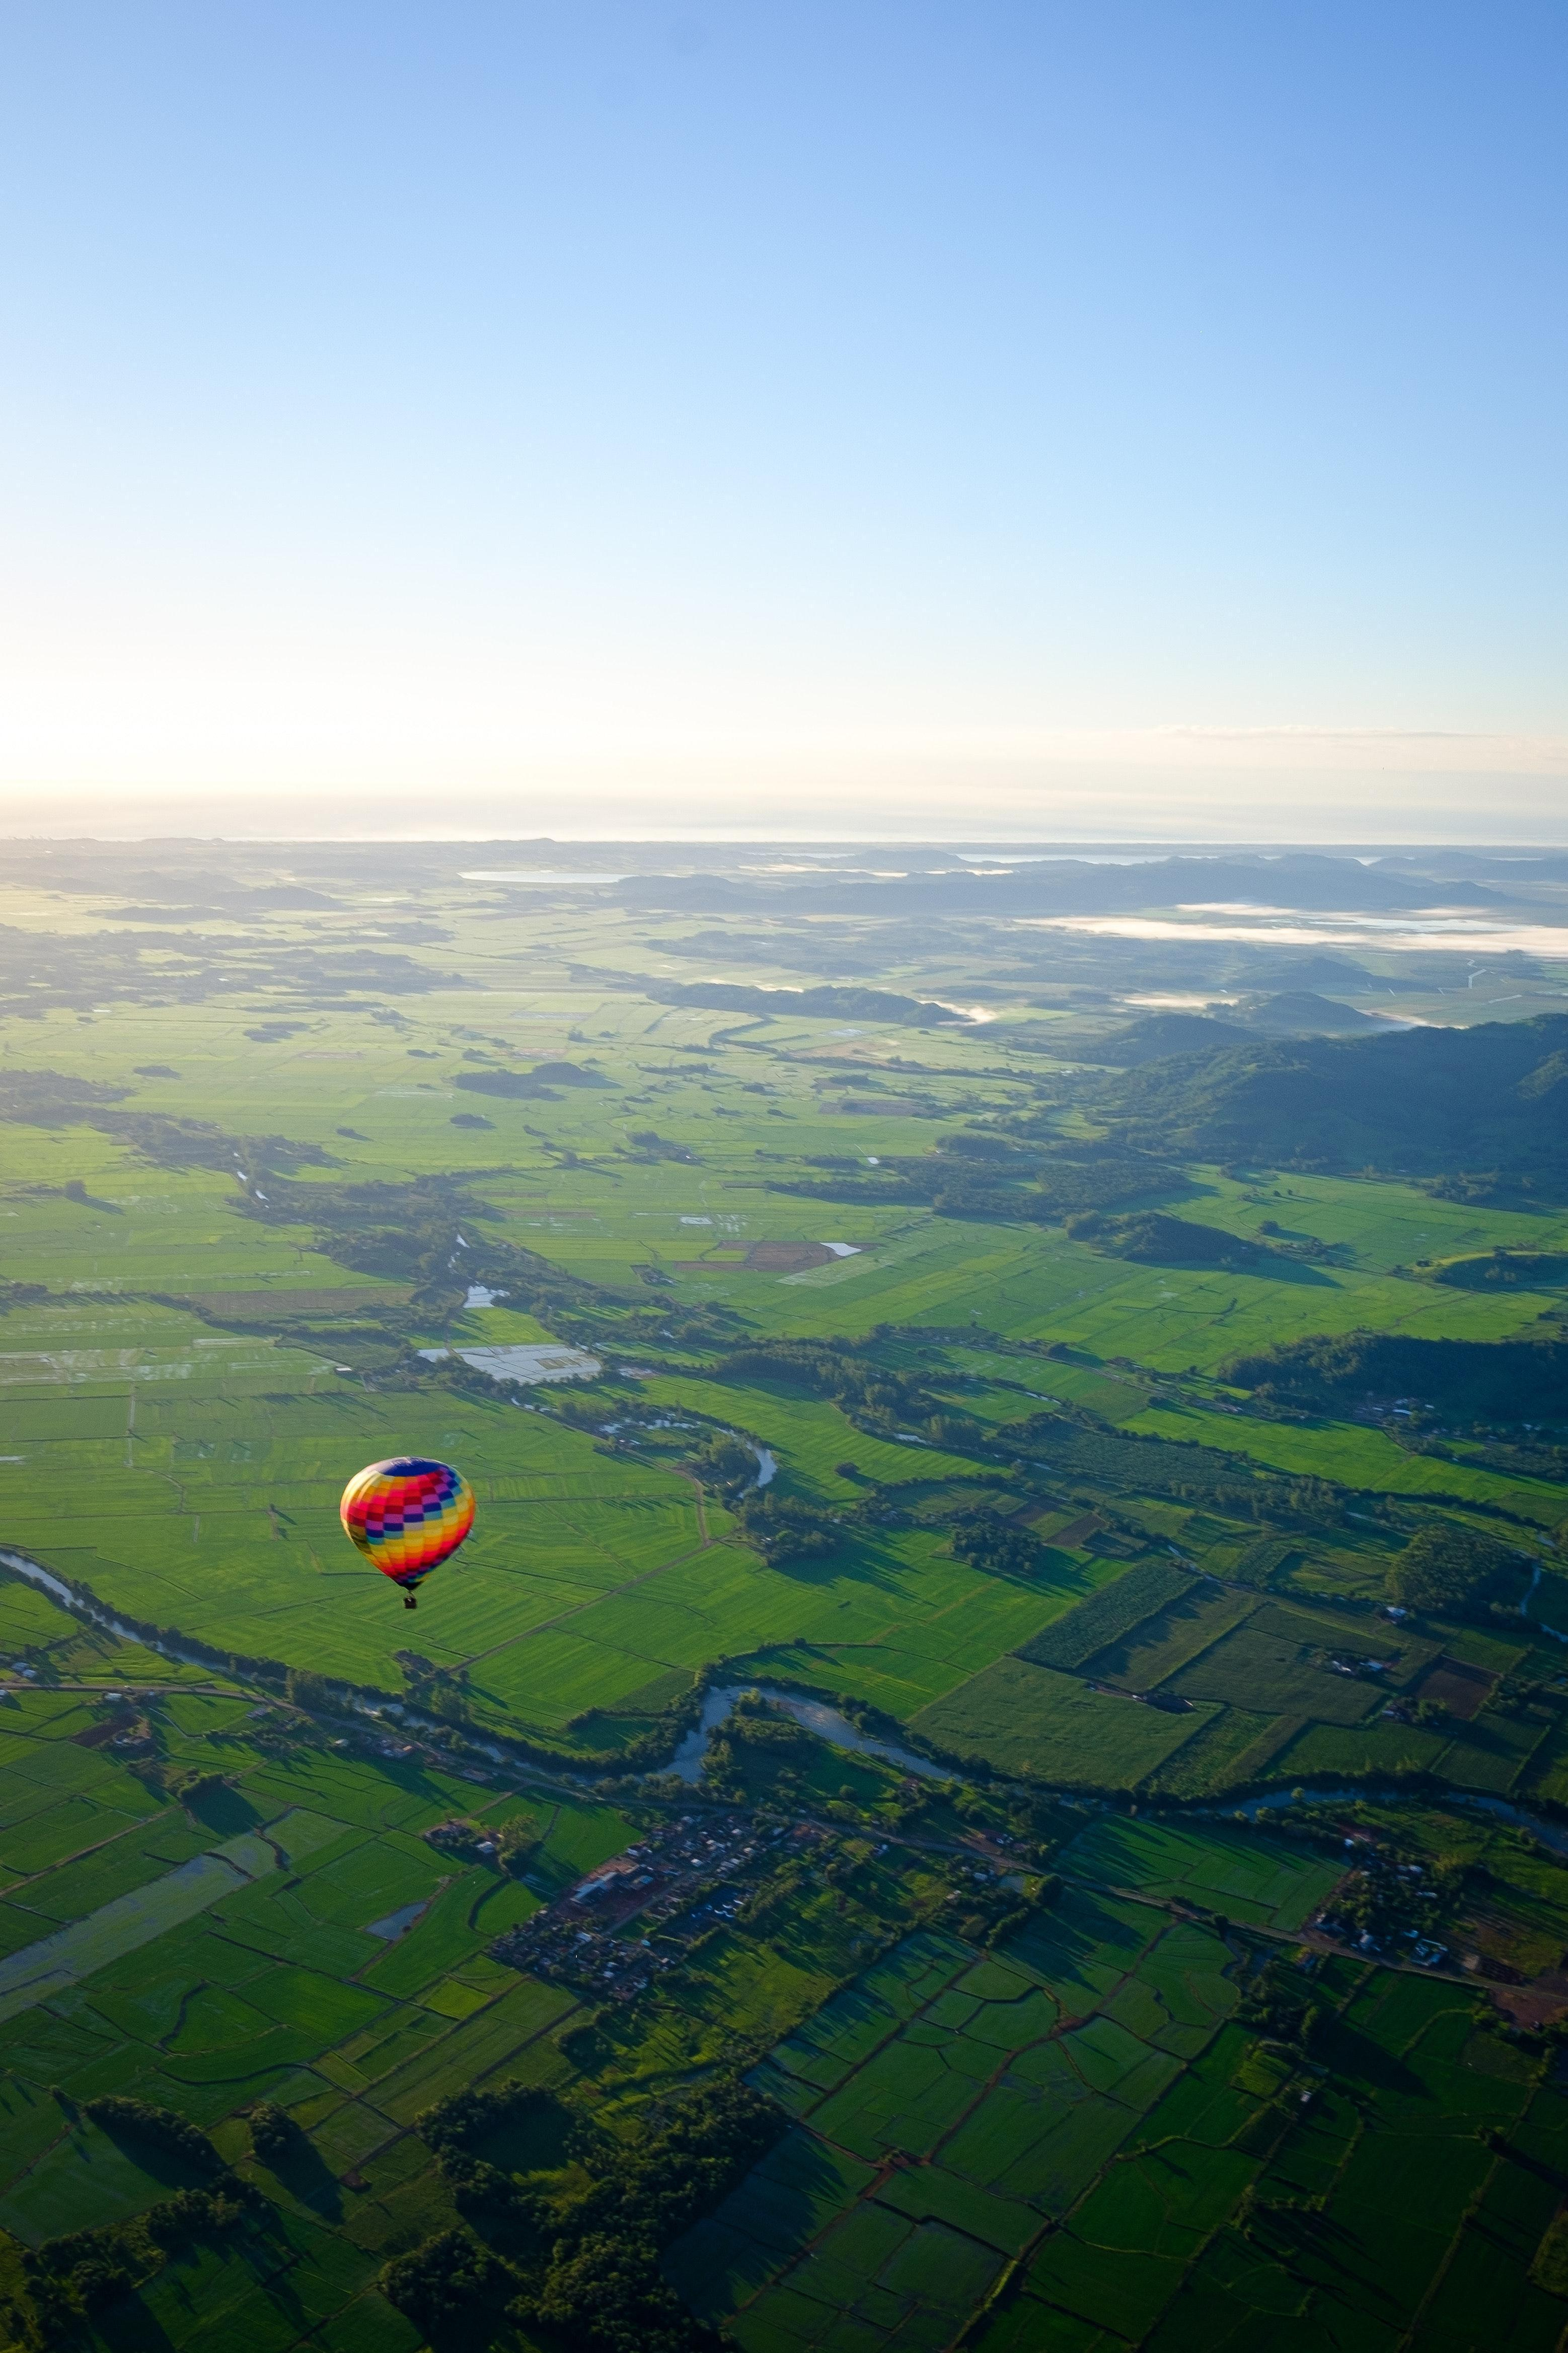hot air ballon: (338, 1456, 477, 1609)
